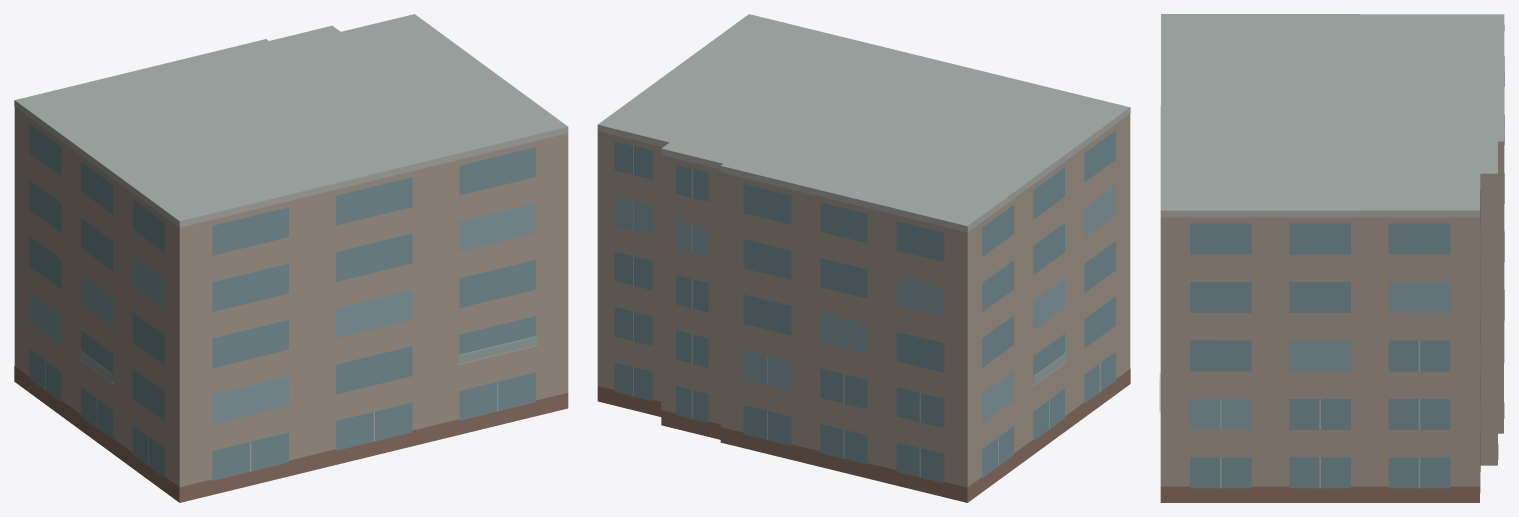
File: survey-upis-32954208.glb
The picture shows the model from 3 angles, left to right: view 1: azimuth 30°, elevation 25°; view 2: azimuth 150°, elevation 25°; view 3: azimuth 270°, elevation 25°; orthographic projection. The views are drawn at different scales.
Visible parts, largest first — view 1: survey-upis-32954208.tmp; view 2: survey-upis-32954208.tmp; view 3: survey-upis-32954208.tmp.
Part boxes in pixels (left/top/right/bottom): survey-upis-32954208.tmp: left=14, top=14, right=568, bottom=502; survey-upis-32954208.tmp: left=597, top=14, right=1130, bottom=502; survey-upis-32954208.tmp: left=1159, top=14, right=1504, bottom=502.
Size of the model in its own units: 15.42 by 10.65 by 11.4.
